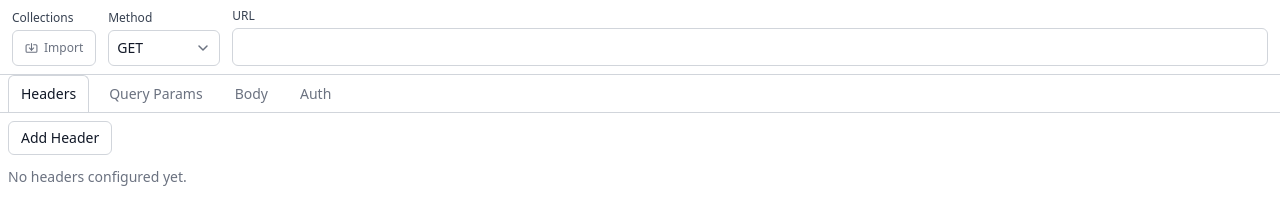
RequestNodeEditor › shows body type selector when Body tab is active
The width and height of the screenshot is (1280, 203).
Click the button with test id "tab-body". click: (251, 94)
box: [223,75,280,112]
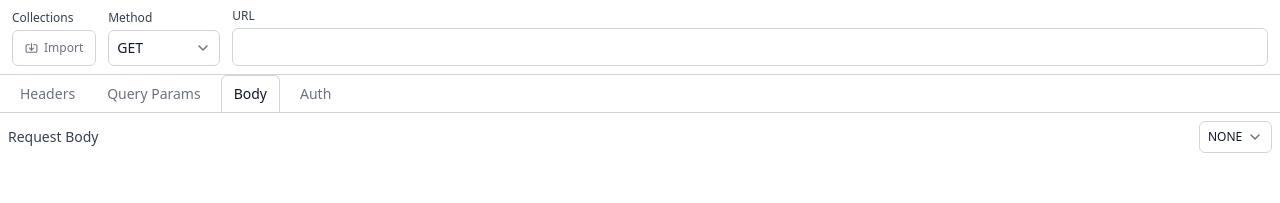
Check: the dropdown named "Request Body Language" is shown, box [1199,121,1272,153]
